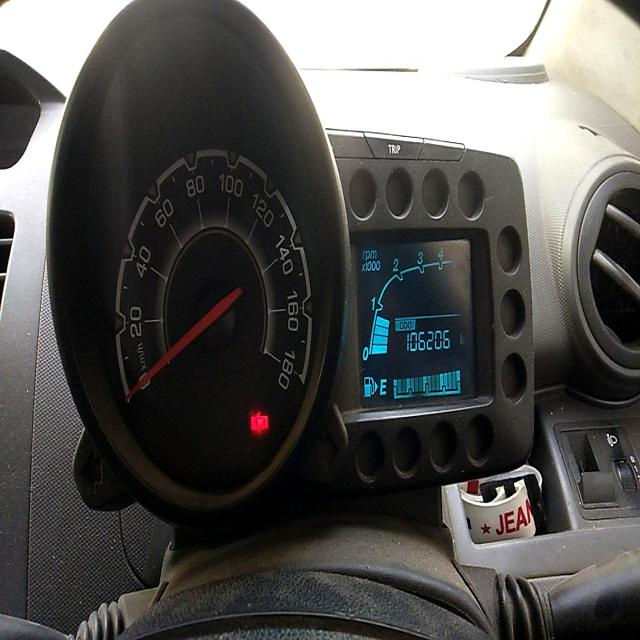odometer: (404, 326, 450, 356)
